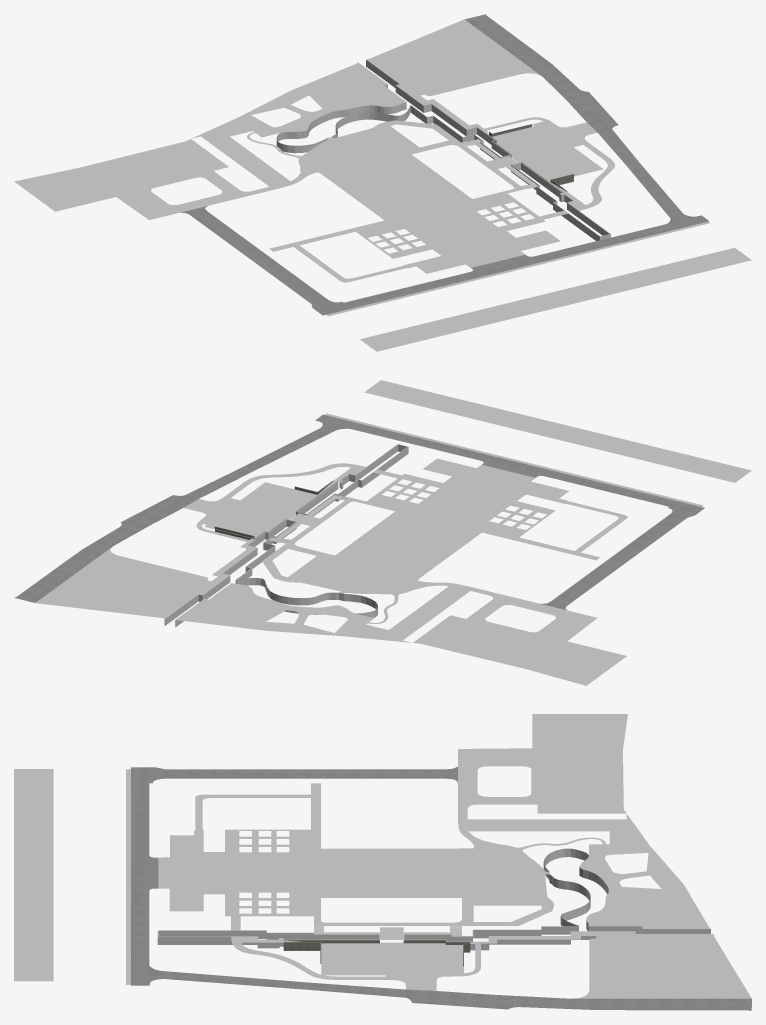
The model's file is ChenYun_Ground.FBX.
3 views of the same model, one above another, from view 1: azimuth 30°, elevation 25°; view 2: azimuth 150°, elevation 25°; view 3: azimuth 270°, elevation 25° (orthographic). The views are drawn at different scales.
Parts seen in each view (by area): view 1: Ground01, Ground02, RiverSide02, RiverSide03, RiverSide04; view 2: Ground01, Ground02, RiverSide02, RiverSide03, RiverSide04; view 3: Ground01, Ground02, RiverSide03, RiverSide02, RiverSide04, RiverSide05, RiverSide01.
Part boxes in pixels (box(x1,y1,x2,y2)): Ground01: box(14, 14, 709, 315); Ground02: box(326, 221, 751, 351); RiverSide02: box(366, 60, 510, 159); RiverSide03: box(511, 163, 610, 240); RiverSide04: box(358, 59, 610, 236); Ground01: box(14, 414, 704, 685); Ground02: box(324, 380, 751, 506); RiverSide02: box(164, 520, 296, 625); RiverSide03: box(296, 444, 408, 516); RiverSide04: box(165, 444, 408, 620); Ground01: box(131, 714, 751, 1010); Ground02: box(14, 769, 130, 984); RiverSide03: box(157, 931, 379, 948); RiverSide02: box(404, 926, 713, 950); RiverSide04: box(157, 926, 713, 941); RiverSide05: box(283, 940, 470, 966); RiverSide01: box(588, 926, 710, 933).
Size of the model in its own units: 22948 by 24100 by 320.
